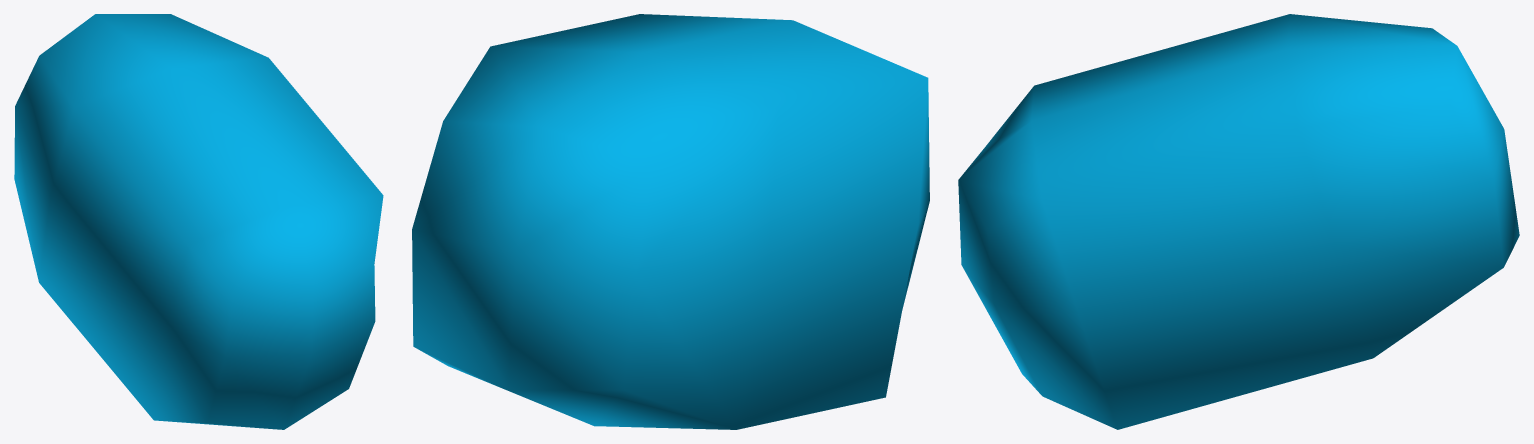
Rendered from Potato.fbx.
3 views of the same model, side by side, from view 1: azimuth 30°, elevation 25°; view 2: azimuth 150°, elevation 25°; view 3: azimuth 270°, elevation 25° (orthographic). The views are drawn at different scales.
Parts seen in each view (by area): view 1: Potato; view 2: Potato; view 3: Potato.
Boxes of the visible parts, left/top/right/bottom form: Potato: left=14, top=14, right=383, bottom=429; Potato: left=412, top=14, right=929, bottom=429; Potato: left=958, top=14, right=1519, bottom=429.
Size of the model in its own units: 13.48 by 17.48 by 26.04.
